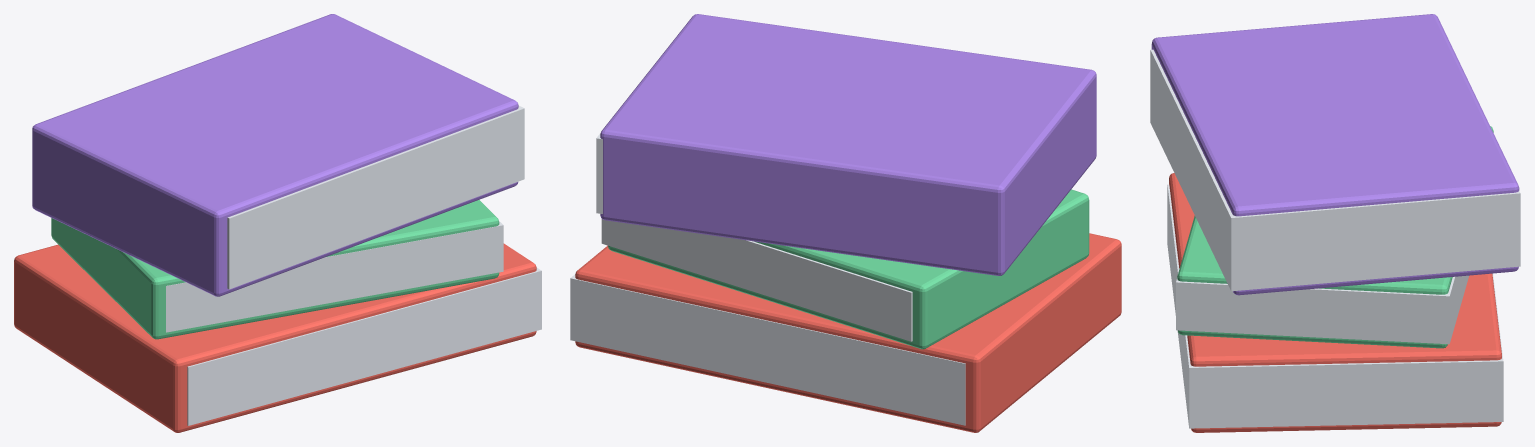
Rendered from Prop_Playroom_BookStack.fbx.
3 views of the same model, side by side, from view 1: azimuth 30°, elevation 25°; view 2: azimuth 150°, elevation 25°; view 3: azimuth 270°, elevation 25° (orthographic). The views are drawn at different scales.
Visible parts, largest first — view 1: Prop_Playroom_BookStack; view 2: Prop_Playroom_BookStack; view 3: Prop_Playroom_BookStack.
Part boxes in pixels (<box>): Prop_Playroom_BookStack: <box>14,14,541,432</box>; Prop_Playroom_BookStack: <box>570,14,1121,432</box>; Prop_Playroom_BookStack: <box>1150,14,1520,432</box>.
Bounding box in the file's own units: 1.69 × 0.9 × 1.33.
